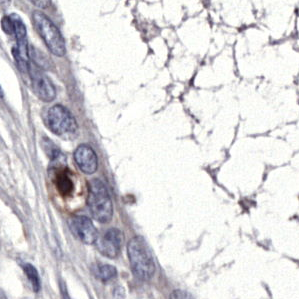Lymphocyte: (47, 163, 77, 202)
